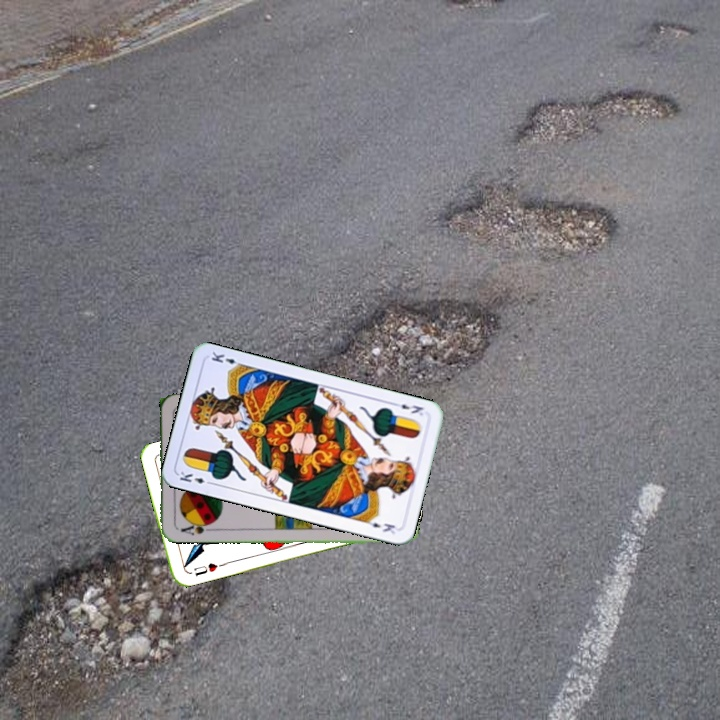EK: (175, 467, 216, 488), (389, 398, 426, 418)
HU: (190, 559, 220, 579)
SA: (177, 518, 214, 538)
